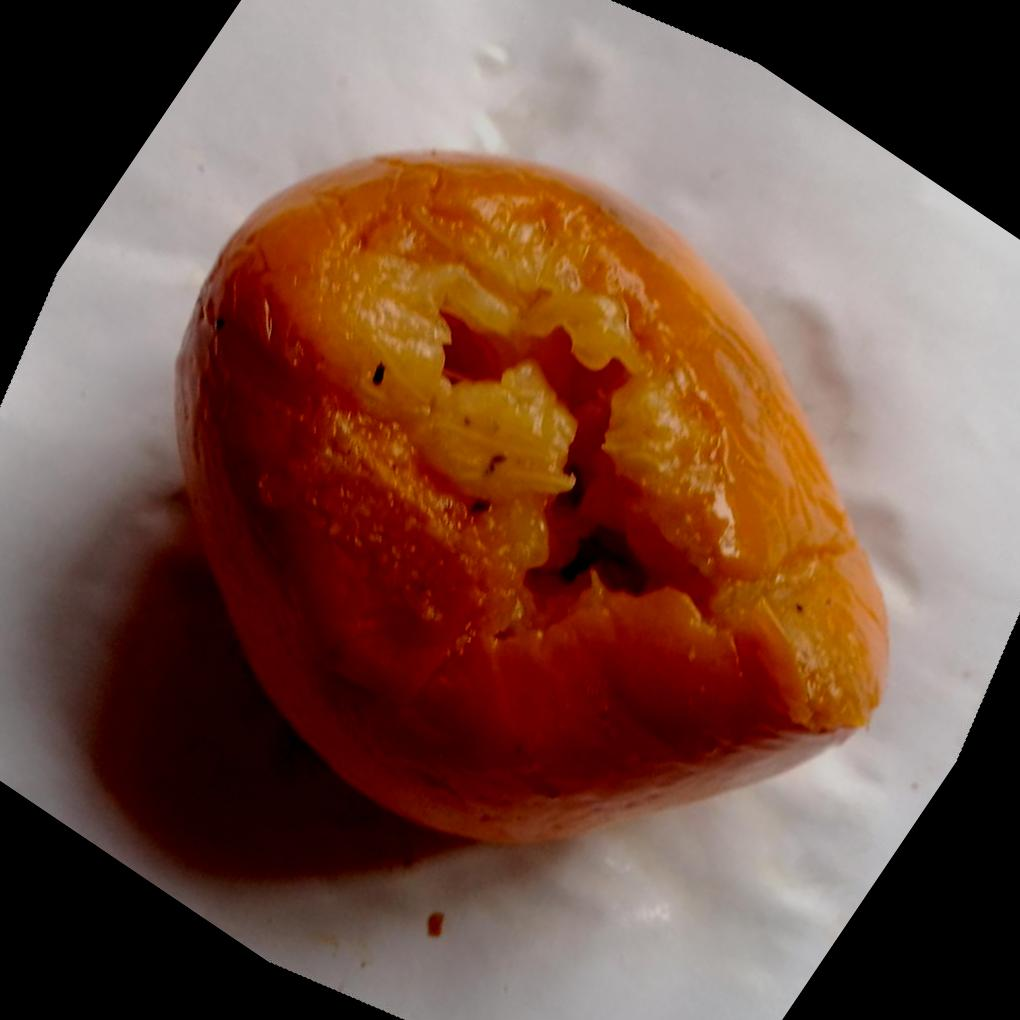FreshOrange: (174, 146, 894, 847)
